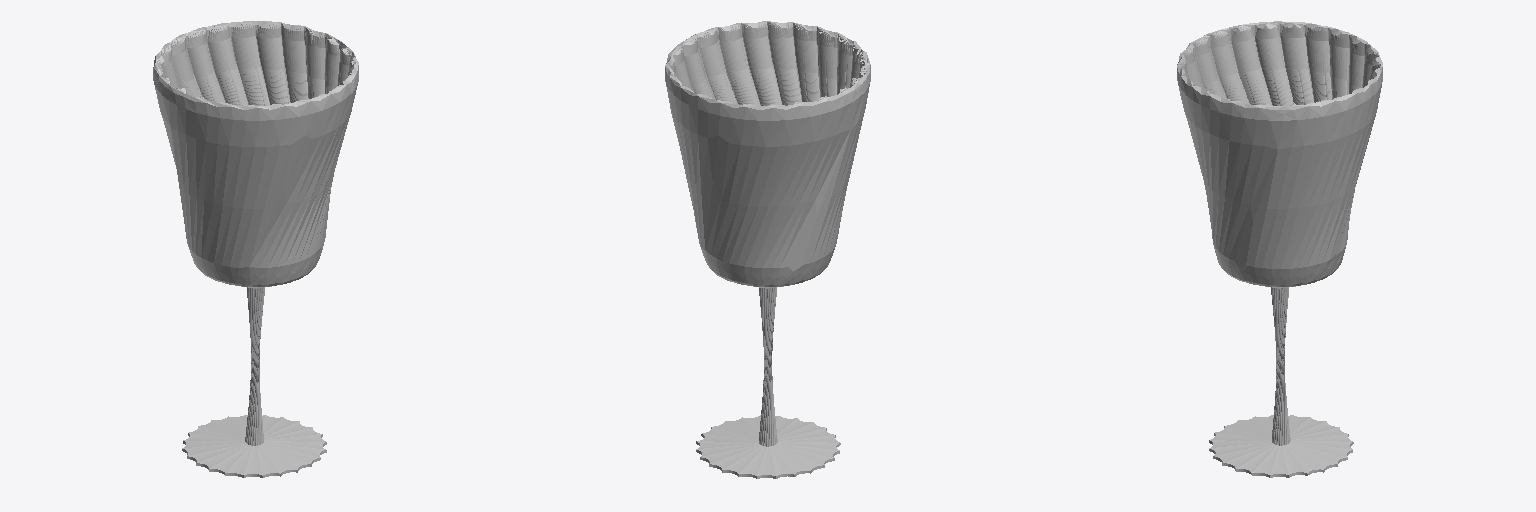
Rendered from cup.obj.
3 renders of one model, left to right at view 1: azimuth 30°, elevation 25°; view 2: azimuth 150°, elevation 25°; view 3: azimuth 270°, elevation 25°, orthographic.
Parts seen in each view (by area): view 1: Layer0_001; view 2: Layer0_001; view 3: Layer0_001.
Part boxes in pixels (x1,y1,x2,y2): Layer0_001: (153, 21, 358, 477); Layer0_001: (665, 21, 870, 478); Layer0_001: (1177, 21, 1382, 477).
Size of the model in its own units: 4.36 by 8.97 by 4.36.